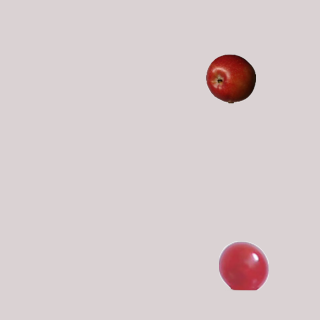Apple Braeburn: (205, 53, 255, 103)
Redcurrant: (218, 240, 268, 290)
